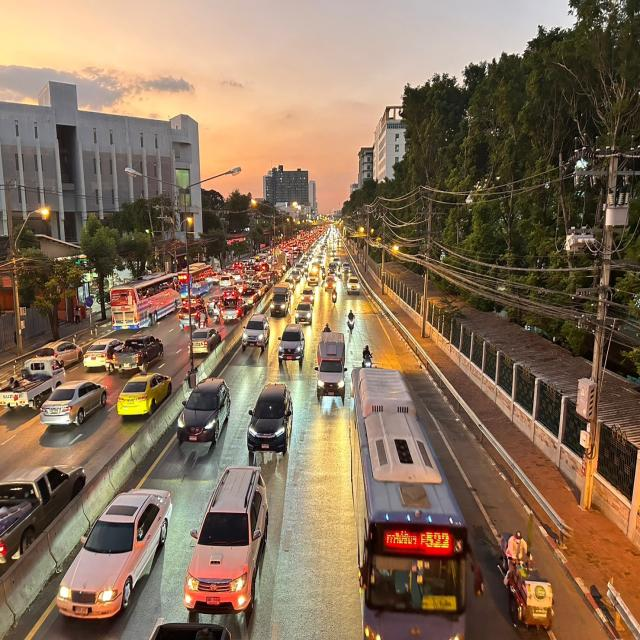bus: (348, 362, 482, 640)
truck: (314, 329, 350, 404)
